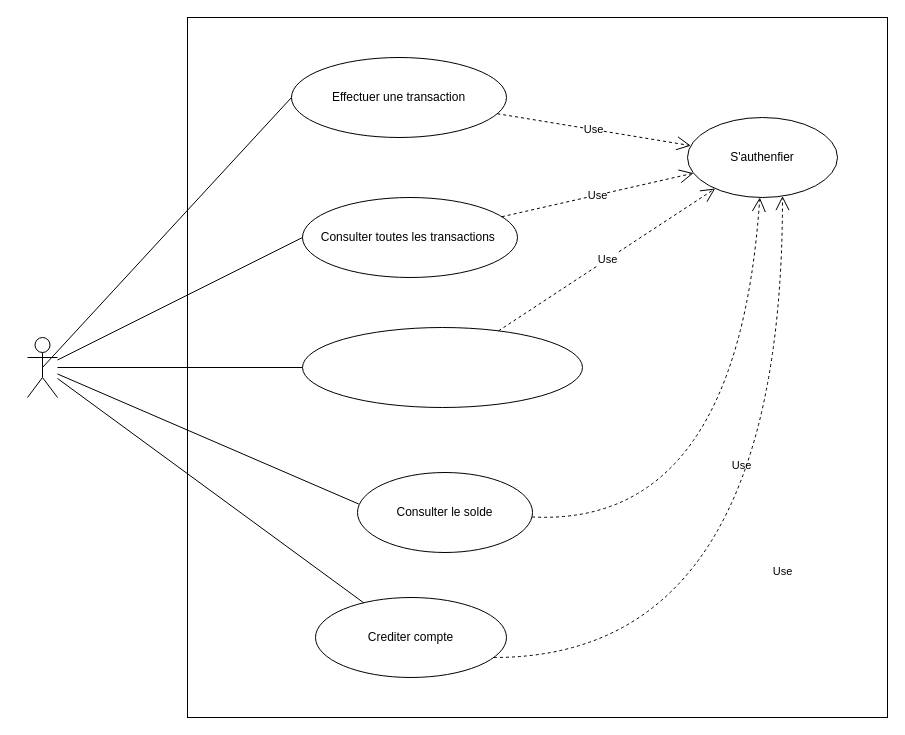
Some shapes in this 905 by 735 pixel diagram are drawn without their labels. Here are the shapes that lost their labels. From the top down, the centre of each, then its label:
point 42,367: Personne
point 442,367: Consulter transaction liée à une personne
